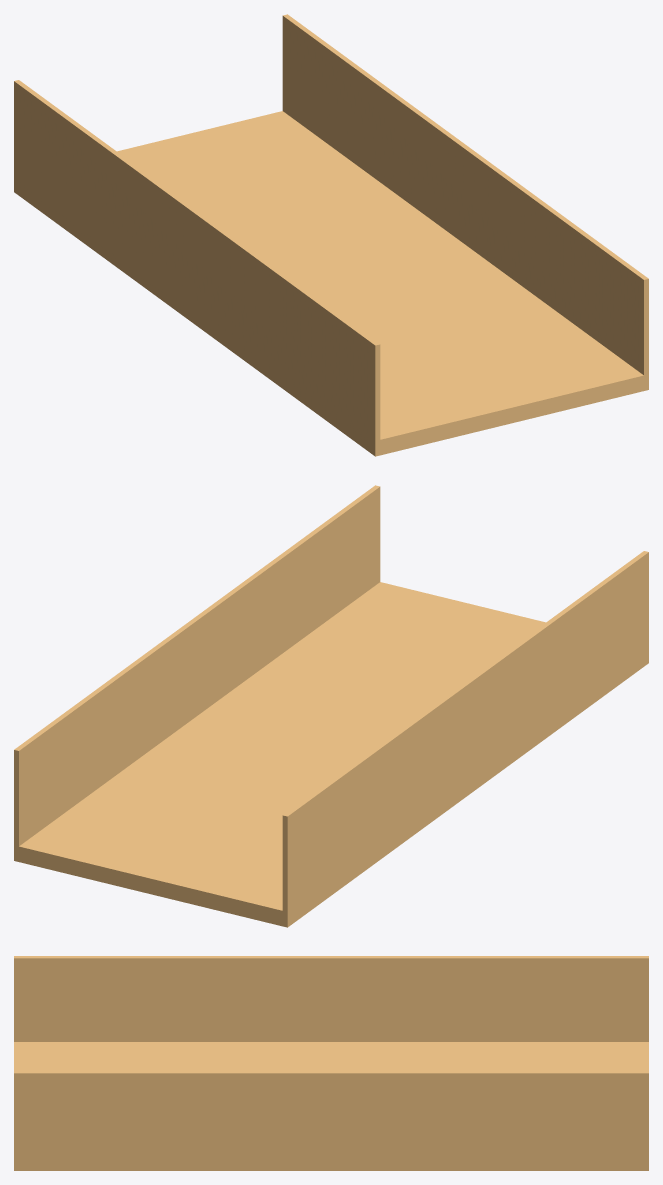
File: climb-4.glb
3 views of the same model, one above another, from view 1: azimuth 30°, elevation 25°; view 2: azimuth 150°, elevation 25°; view 3: azimuth 270°, elevation 25° (orthographic). The views are drawn at different scales.
Parts seen in each view (by area): view 1: climb-4; view 2: climb-4; view 3: climb-4.
Boxes of the visible parts, left/top/right/bottom form: climb-4: left=14, top=14, right=648, bottom=456; climb-4: left=14, top=485, right=648, bottom=927; climb-4: left=14, top=956, right=648, bottom=1170.
Bounding box in the file's own units: 3.3 × 1.28 × 7.55.
Materials: 1 (1 with a texture image).
